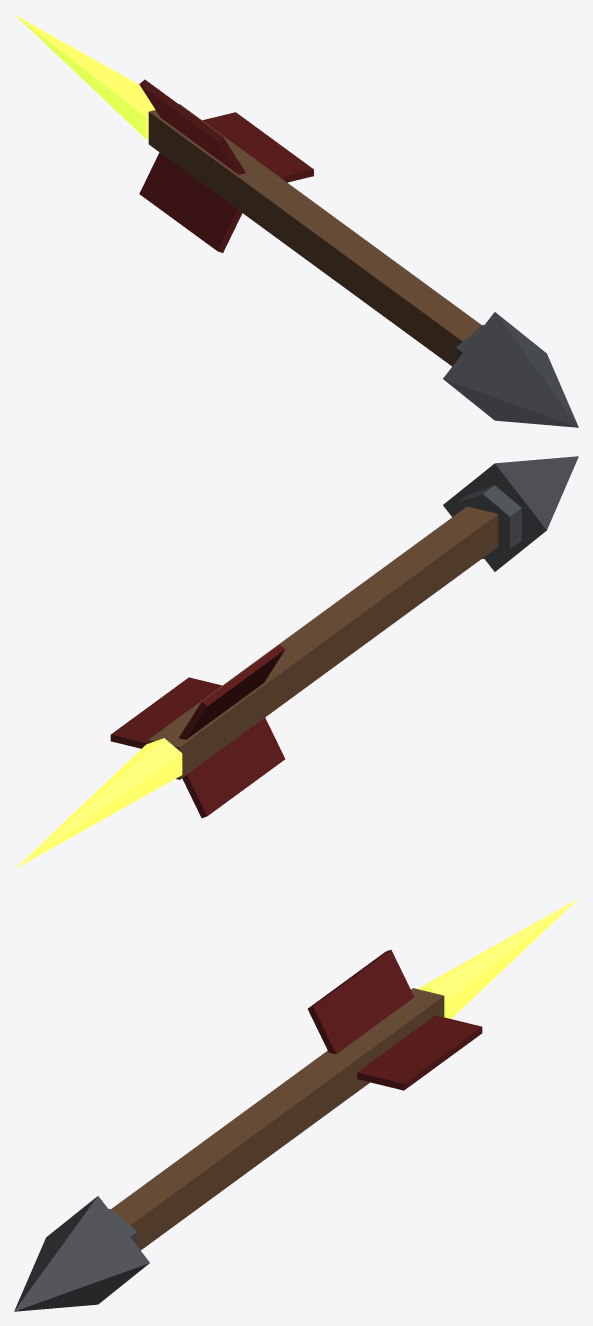
Rendered from projectile_bolt_rapid.glb.
3 views of the same model, one above another, from view 1: azimuth 30°, elevation 25°; view 2: azimuth 150°, elevation 25°; view 3: azimuth 330°, elevation 25° (orthographic).
Visible parts, largest first — view 1: Shaft, Head, Fletch_2, Tracer_Trail, Fletch_0, Fletch_1; view 2: Shaft, Head, Tracer_Trail, Fletch_2, Fletch_0, Fletch_1, Ferrule; view 3: Shaft, Head, Fletch_1, Fletch_0, Tracer_Trail.
Boxes of the visible parts, left/top/right/bottom form: Shaft: left=148, top=104, right=481, bottom=366; Head: left=443, top=312, right=578, bottom=427; Fletch_2: left=139, top=152, right=242, bottom=252; Tracer_Trail: left=14, top=14, right=155, bottom=140; Fletch_0: left=202, top=112, right=313, bottom=182; Fletch_1: left=139, top=79, right=245, bottom=174; Shaft: left=148, top=506, right=498, bottom=779; Head: left=443, top=456, right=578, bottom=571; Tracer_Trail: left=14, top=738, right=182, bottom=869; Fletch_2: left=182, top=718, right=284, bottom=817; Fletch_0: left=110, top=677, right=221, bottom=748; Fletch_1: left=179, top=645, right=285, bottom=739; Ferrule: left=455, top=485, right=521, bottom=558; Shaft: left=111, top=988, right=444, bottom=1250; Head: left=14, top=1196, right=149, bottom=1311; Fletch_1: left=308, top=950, right=413, bottom=1054; Fletch_0: left=357, top=1015, right=482, bottom=1090; Tracer_Trail: left=418, top=898, right=578, bottom=1018.
Size of the model in its own units: 0.088 by 0.0856 by 0.752.
